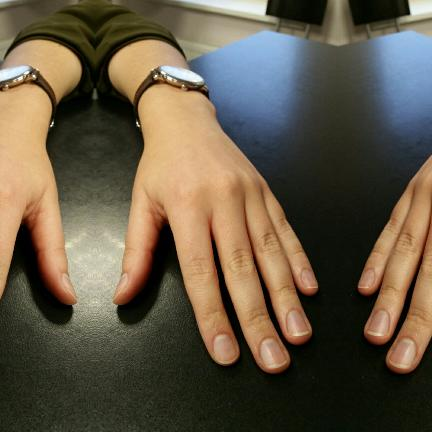Nail: (259, 338, 286, 368), (388, 338, 415, 368), (213, 334, 236, 364), (285, 310, 308, 336), (366, 310, 389, 336), (112, 273, 127, 302), (61, 273, 76, 302), (300, 269, 317, 288), (357, 269, 374, 288)
